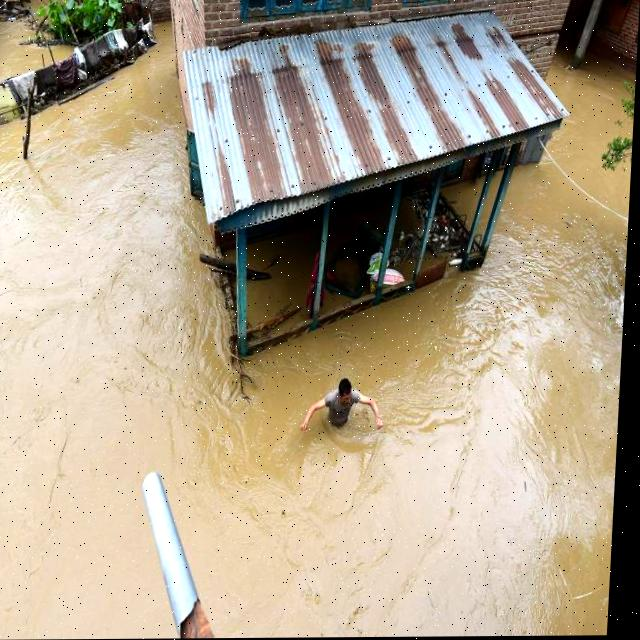civilian: (297, 368, 393, 443)
